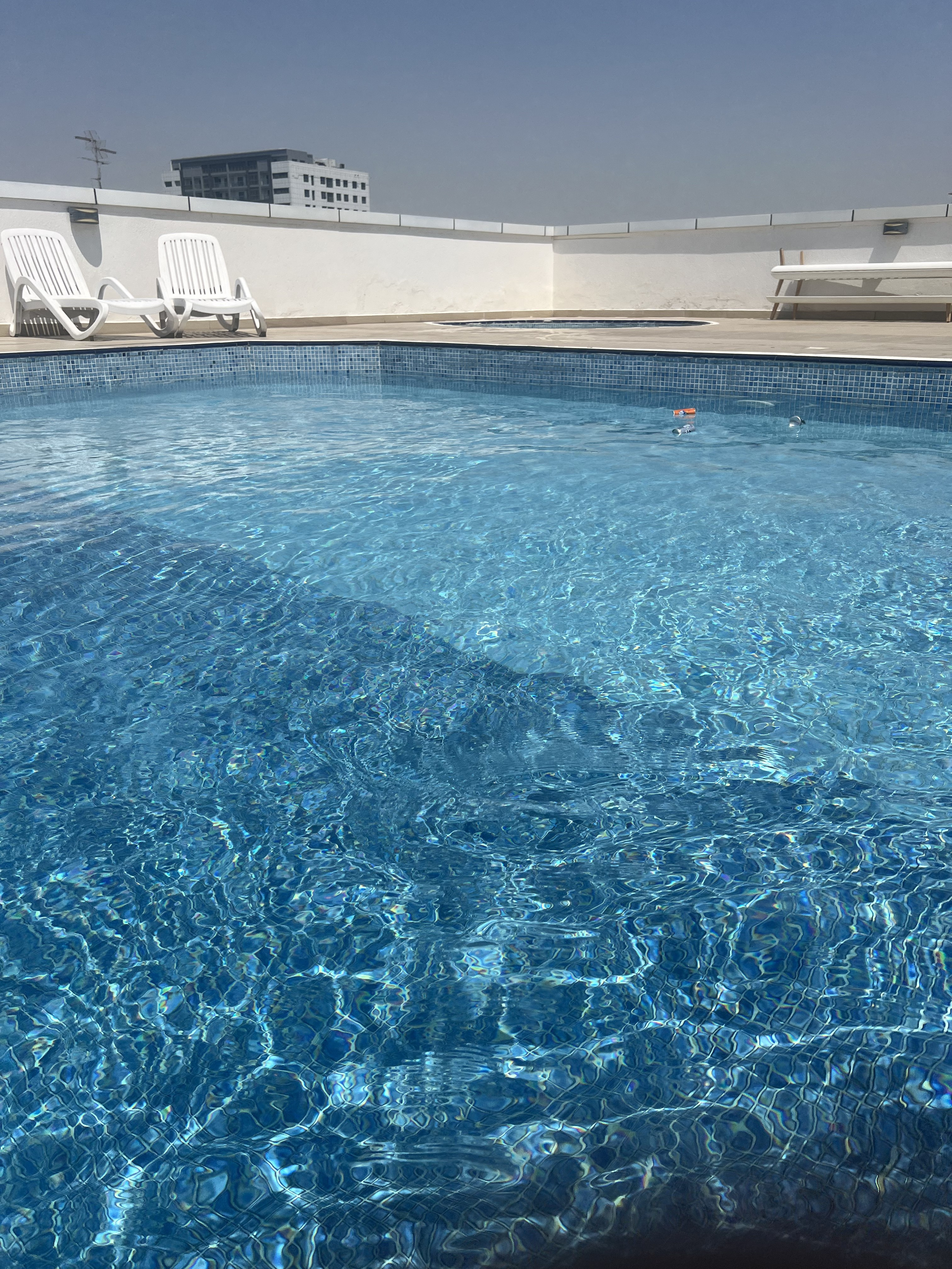debris: (671, 403, 697, 420), (671, 423, 692, 441), (789, 408, 804, 433)
